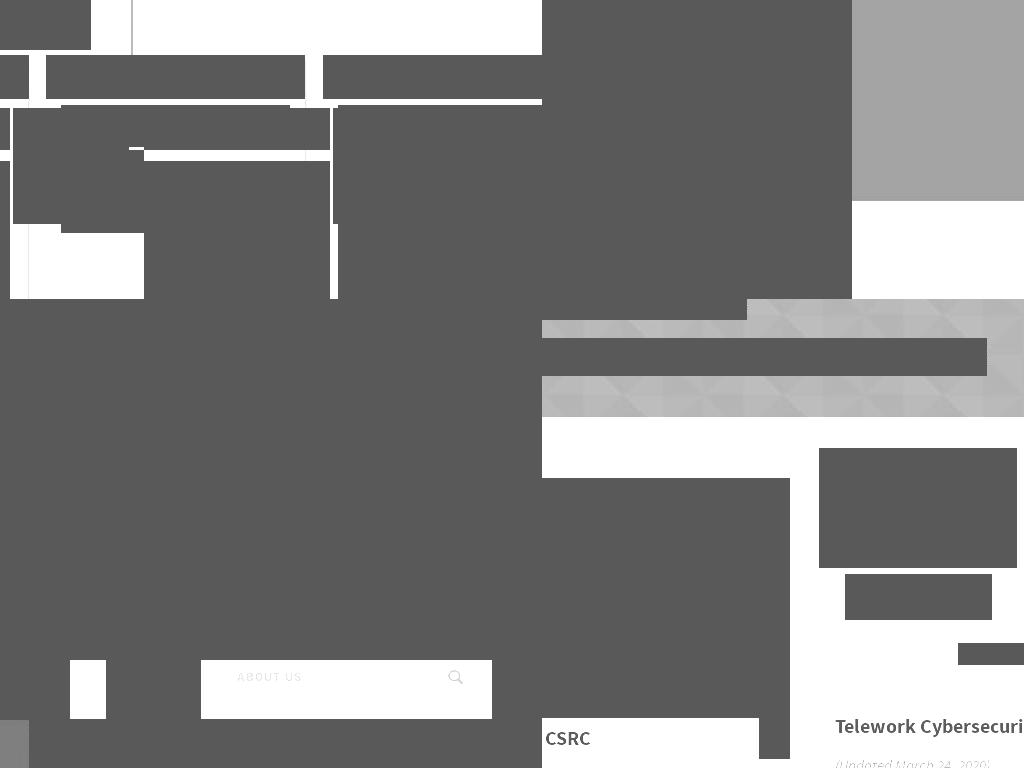button: (0, 299, 542, 635), (542, 478, 790, 519), (542, 518, 790, 559), (542, 558, 790, 599), (542, 598, 790, 639), (542, 638, 790, 679), (542, 678, 790, 719), (542, 718, 790, 759), (106, 634, 201, 720), (0, 634, 70, 720), (236, 634, 302, 720), (492, 634, 542, 720), (430, 735, 523, 768)
field: (380, 735, 431, 768)
heading: (164, 299, 542, 398), (542, 338, 987, 376), (0, 634, 542, 660), (845, 574, 992, 620), (835, 712, 1024, 741), (542, 299, 747, 320)
iframe: (338, 105, 542, 299)
image: (0, 299, 132, 597), (819, 448, 1017, 568), (13, 108, 129, 224), (333, 108, 449, 224), (61, 150, 144, 233)
link: (164, 406, 542, 526)
text: (542, 0, 852, 299), (144, 161, 330, 299), (156, 161, 289, 299), (46, 55, 305, 99), (323, 55, 542, 99), (61, 105, 290, 147), (464, 108, 542, 213), (144, 108, 330, 150), (164, 558, 331, 603), (464, 224, 542, 299), (430, 735, 523, 768), (835, 757, 991, 768), (542, 524, 601, 552), (958, 643, 1024, 665), (542, 724, 592, 752), (759, 518, 790, 559), (759, 558, 790, 599), (759, 718, 790, 759)
